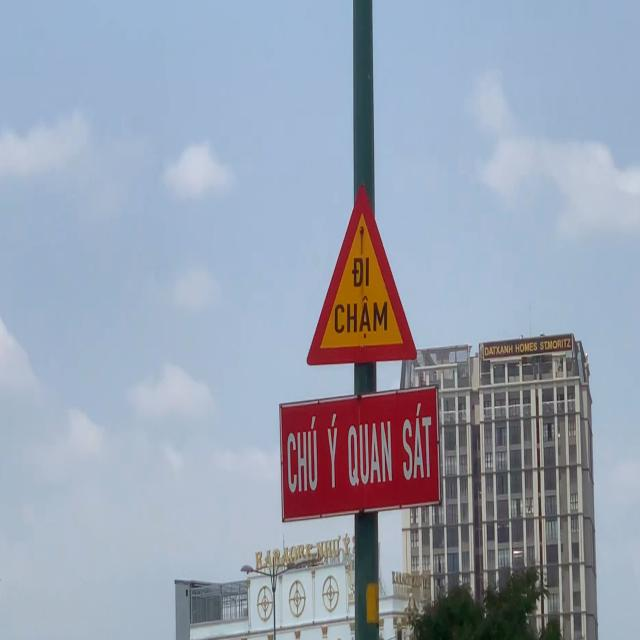Nguy hiem: (301, 168, 426, 376)
